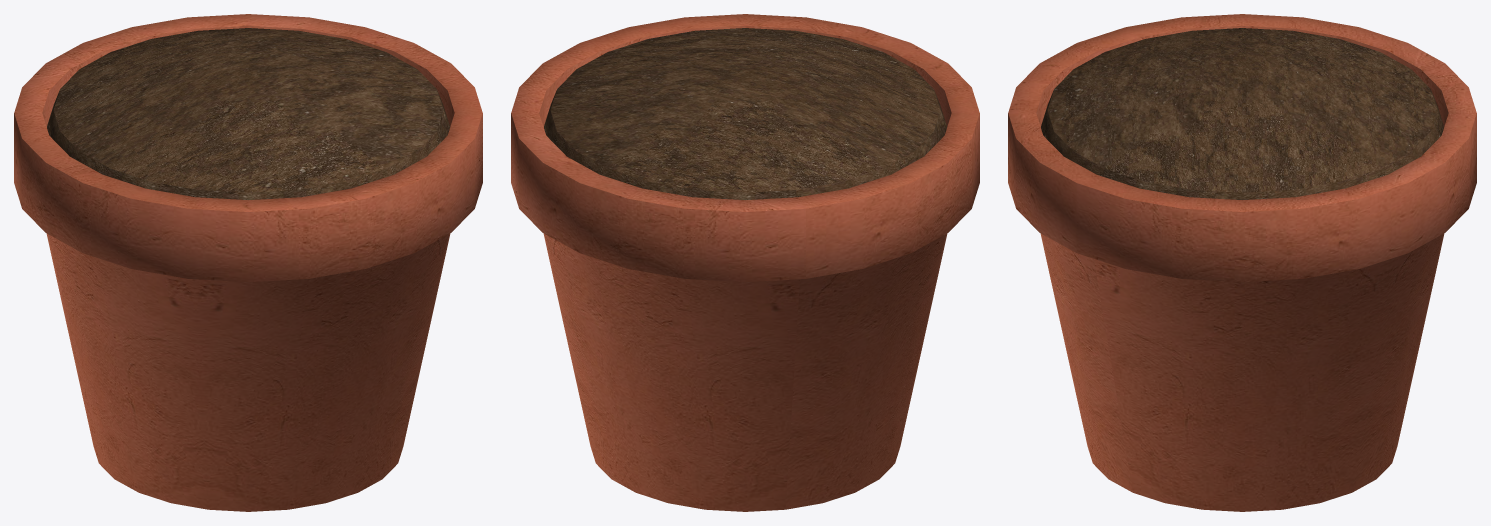
File: pot.fbx
3 views of the same model, side by side, from view 1: azimuth 30°, elevation 25°; view 2: azimuth 150°, elevation 25°; view 3: azimuth 270°, elevation 25° (orthographic).
Visible parts, largest first — view 1: Cylinder; view 2: Cylinder; view 3: Cylinder.
Boxes of the visible parts, <box> form: Cylinder: <box>14,14,482,511</box>; Cylinder: <box>511,14,979,511</box>; Cylinder: <box>1008,14,1476,511</box>.
Size of the model in its own units: 125 by 109 by 125.
